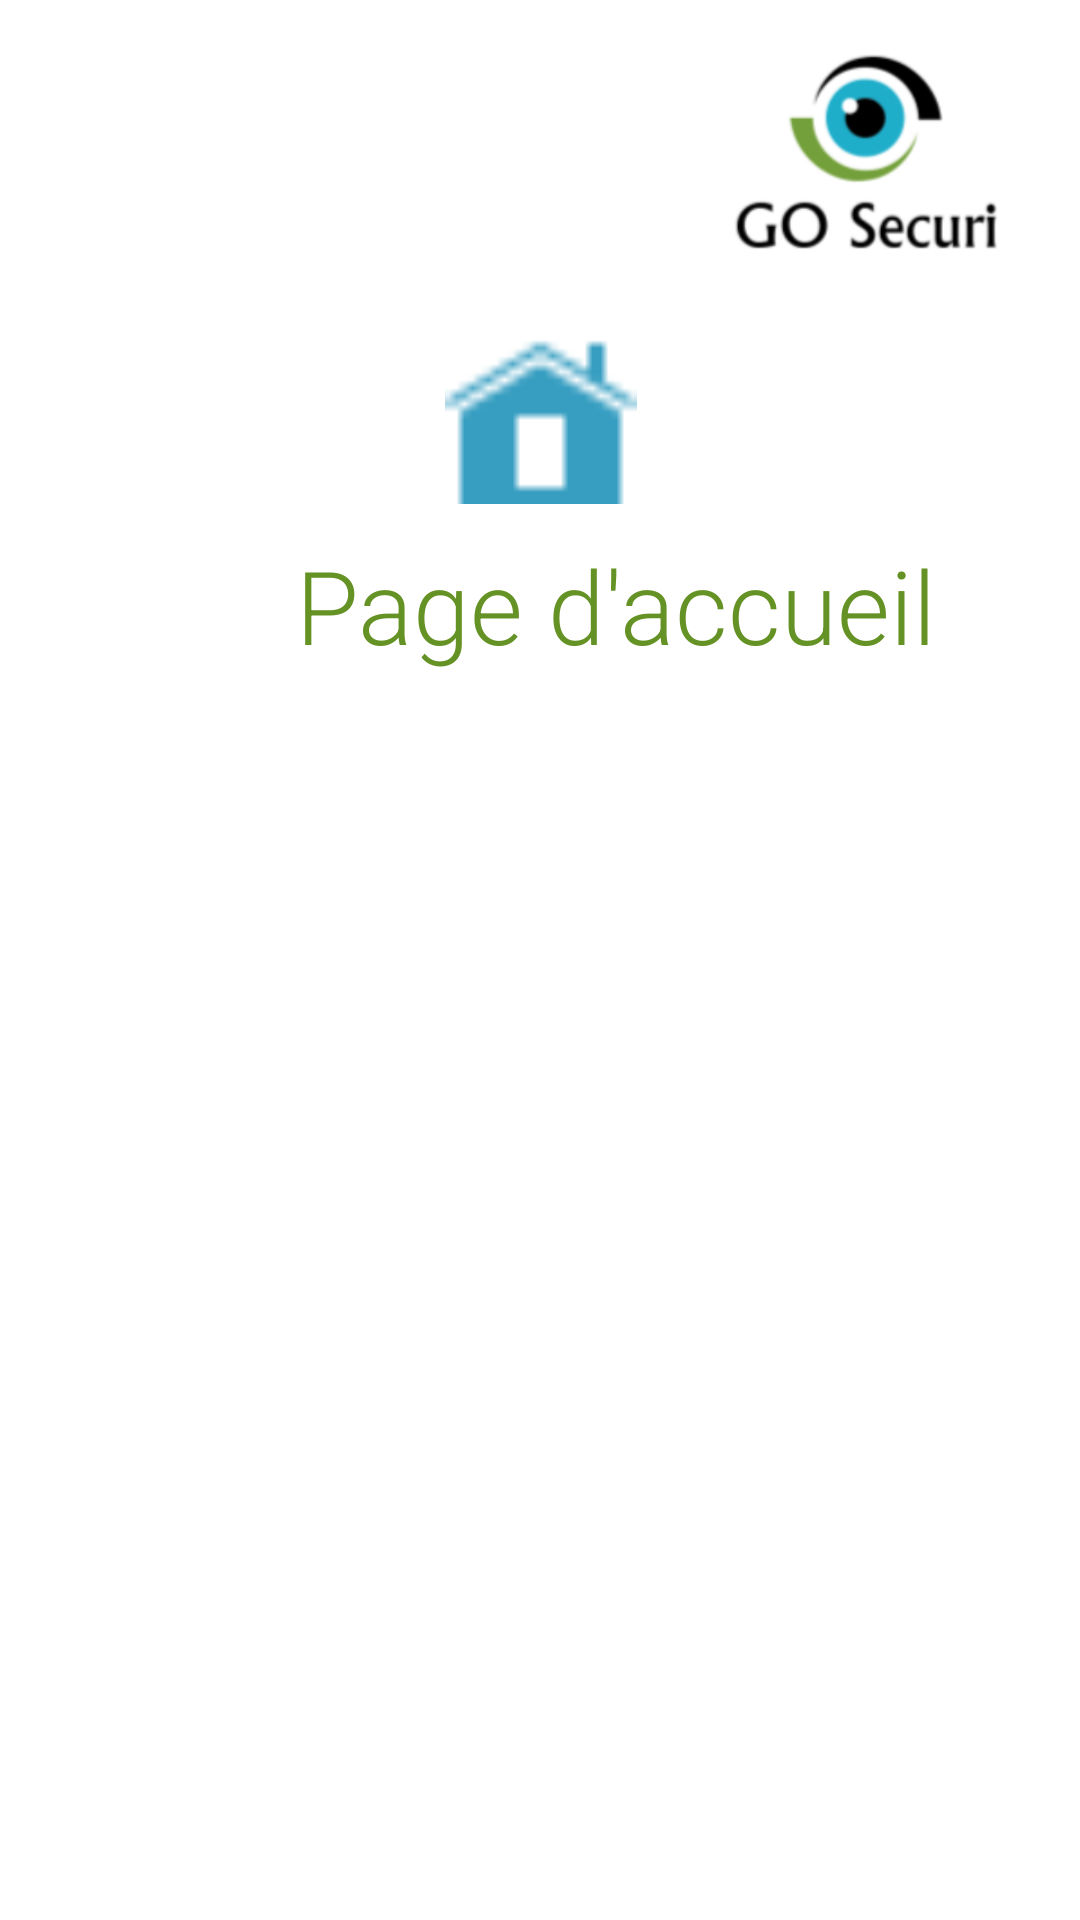

Icon click points for this 1080 × 1920 phone screenshot, format [x,y]:
home: [541,422]
